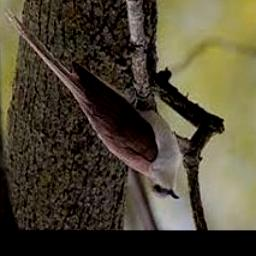Cuckoo: (4, 7, 179, 201)
